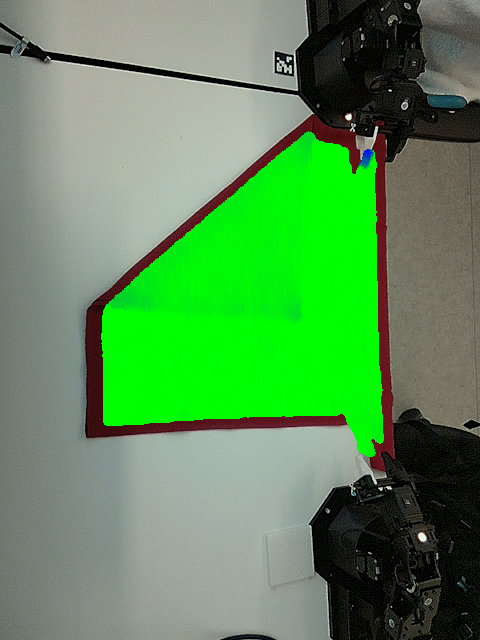V: (254, 268, 312, 329)
